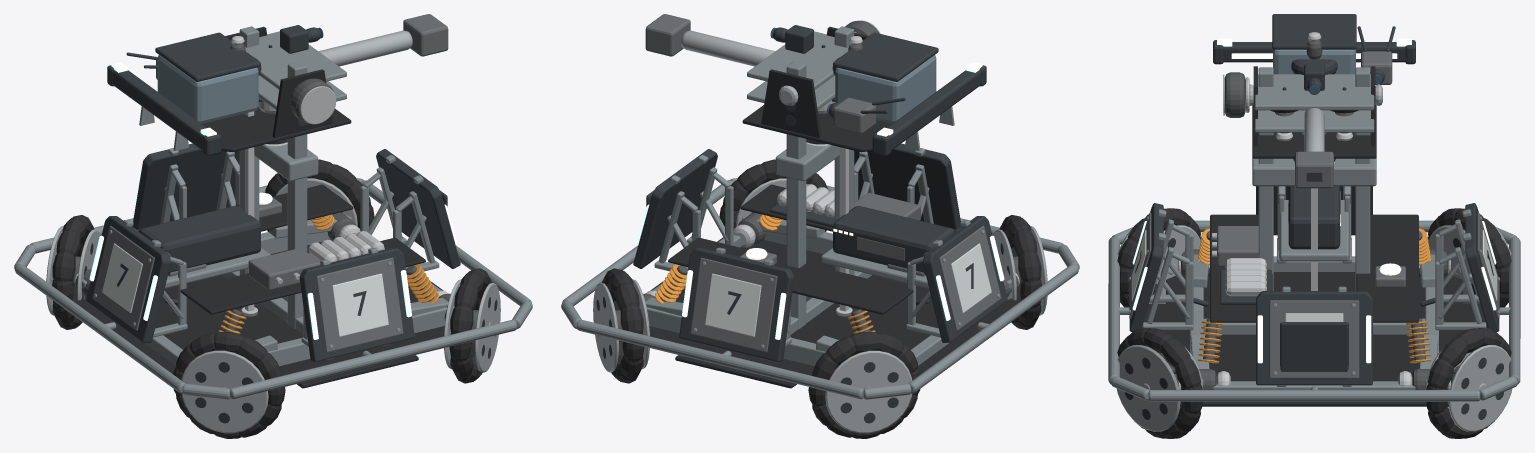
File: robot-303-spec2026v3.glb
3 views of the same model, side by side, from view 1: azimuth 30°, elevation 25°; view 2: azimuth 150°, elevation 25°; view 3: azimuth 270°, elevation 25° (orthographic).
Visible parts, largest first — view 1: Chassis_RobotMatteAluminum, Chassis_CarbonPlate, Chassis_RobotMatteGraphite, ArmorModuleBody.001, Wheel_0_MachinedAlloy, MagazineBox, Turret_CarbonPlate, ArmorModuleBody, ArmorHitFace.003, ArmorModuleBody.003, Wheel_0_PolyurethaneRoller, Turret_RobotMatteGraphite (+28 smaller); view 2: Chassis_RobotMatteAluminum, Chassis_CarbonPlate, Chassis_RobotMatteGraphite, Turret_CarbonPlate, ArmorModuleBody.003, Wheel_1_MachinedAlloy, ArmorModuleBody, ArmorHitFace.001, ArmorModuleBody.001, Wheel_1_PolyurethaneRoller, MagazineBox, Turret_RobotMatteGraphite (+26 smaller); view 3: Chassis_RobotMatteAluminum, Chassis_CarbonPlate, Chassis_RobotMatteGraphite, GunPitch_RobotMatteAluminum, ArmorModuleBody, Wheel_2_MachinedAlloy, Wheel_3_MachinedAlloy, ArmorHitFace, Wheel_2_PolyurethaneRoller, Wheel_3_PolyurethaneRoller, Turret_CarbonPlate, MagazineLid (+32 smaller).
Part boxes in pixels (x1,y1,x2,y2): Chassis_RobotMatteAluminum: (14,26,532,399); Chassis_CarbonPlate: (72,184,444,388); Chassis_RobotMatteGraphite: (79,190,447,301); ArmorModuleBody.001: (132,143,239,229); Wheel_0_MachinedAlloy: (181,350,268,433); MagazineBox: (157,55,258,123); Turret_CarbonPlate: (202,26,351,152); ArmorModuleBody: (376,149,460,268); ArmorHitFace.003: (316,257,403,352); ArmorModuleBody.003: (299,247,414,361); Wheel_0_PolyurethaneRoller: (173,331,285,438); Turret_RobotMatteGraphite: (107,52,306,156); Chassis_RobotMatteAluminum: (561,26,1079,399); Chassis_CarbonPlate: (649,184,1021,388); Chassis_RobotMatteGraphite: (646,190,1014,301); Turret_CarbonPlate: (742,26,891,152); ArmorModuleBody.003: (854,143,961,229); Wheel_1_MachinedAlloy: (825,350,912,433); ArmorModuleBody: (633,149,717,268); ArmorHitFace.001: (690,257,777,352); ArmorModuleBody.001: (679,247,794,361); Wheel_1_PolyurethaneRoller: (808,331,920,438); MagazineBox: (835,55,936,123); Turret_RobotMatteGraphite: (785,65,986,156); Chassis_RobotMatteAluminum: (1108,67,1520,401); Chassis_CarbonPlate: (1141,214,1487,406); Chassis_RobotMatteGraphite: (1172,186,1456,379); GunPitch_RobotMatteAluminum: (1254,74,1374,132); ArmorModuleBody: (1256,291,1372,385); Wheel_2_MachinedAlloy: (1116,345,1203,431); Wheel_3_MachinedAlloy: (1425,345,1512,431); ArmorHitFace: (1269,300,1359,378); Wheel_2_PolyurethaneRoller: (1117,328,1202,438); Wheel_3_PolyurethaneRoller: (1426,328,1511,438); Turret_CarbonPlate: (1252,66,1376,158); MagazineLid: (1272,14,1356,49).
Size of the model in its own units: 0.5969 by 0.5206 by 0.5969.
